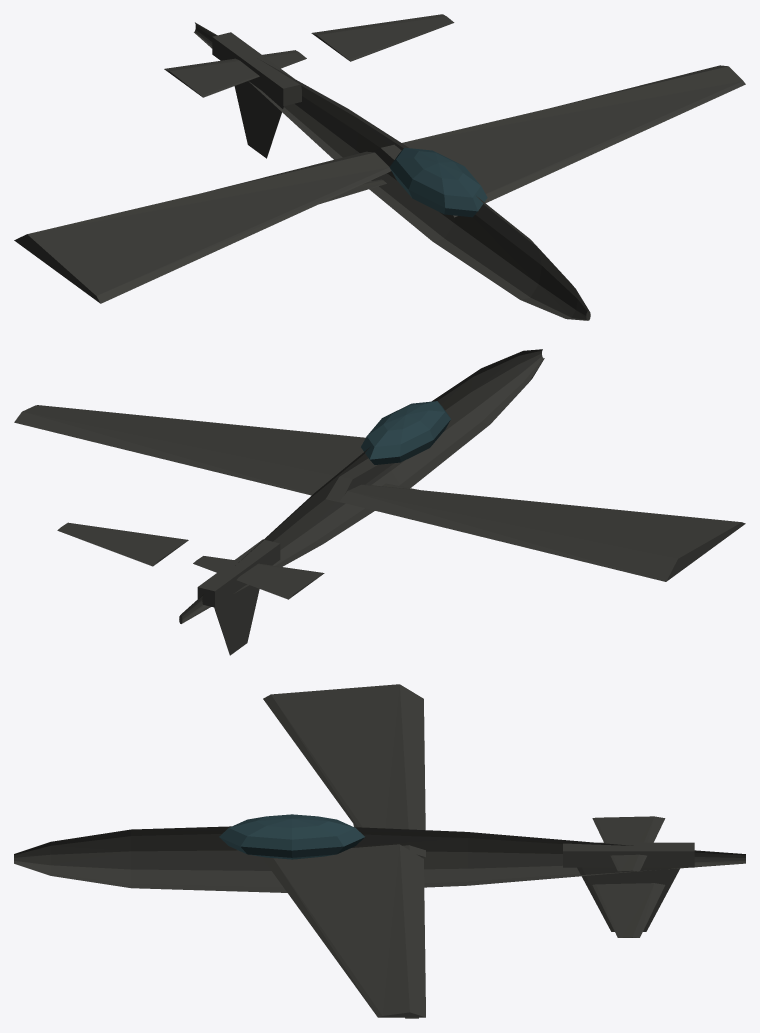
Rendered from a10c_Destroyed.glb.
3 renders of one model, top to bottom at view 1: azimuth 30°, elevation 25°; view 2: azimuth 150°, elevation 25°; view 3: azimuth 270°, elevation 25°, orthographic. The views are drawn at different scales.
Parts seen in each view (by area): view 1: Wing_L, Wing_R, Fuselage, Cockpit, Elevator_R, Elevator_L, TailBoom, Rudder; view 2: Wing_L, Wing_R, Fuselage, Cockpit, Elevator_R, TailBoom, Elevator_L, Rudder; view 3: Fuselage, Wing_R, Wing_L, Cockpit, TailBoom, Elevator_R, Elevator_L, Rudder.
Part boxes in pixels (bbox=[...]): Wing_L: bbox=[14, 151, 391, 303]; Wing_R: bbox=[372, 65, 745, 217]; Fuselage: bbox=[194, 22, 590, 320]; Cockpit: bbox=[389, 147, 487, 217]; Elevator_R: bbox=[311, 14, 454, 61]; Elevator_L: bbox=[164, 50, 306, 97]; TailBoom: bbox=[212, 32, 301, 106]; Rudder: bbox=[234, 81, 283, 158]; Wing_L: bbox=[340, 484, 745, 581]; Wing_R: bbox=[14, 405, 393, 502]; Fuselage: bbox=[179, 349, 544, 623]; Cockpit: bbox=[361, 401, 450, 464]; Elevator_R: bbox=[57, 522, 188, 566]; TailBoom: bbox=[197, 539, 280, 607]; Elevator_L: bbox=[193, 556, 324, 599]; Rudder: bbox=[214, 584, 259, 655]; Fuselage: bbox=[14, 826, 745, 892]; Wing_R: bbox=[263, 844, 425, 1017]; Wing_L: bbox=[263, 684, 425, 857]; Cockpit: bbox=[219, 814, 364, 859]; TailBoom: bbox=[563, 842, 694, 867]; Elevator_R: bbox=[592, 883, 665, 937]; Elevator_L: bbox=[592, 816, 665, 871]; Rudder: bbox=[577, 867, 680, 931].
Size of the model in its own units: 16.83 by 2.77 by 16.26.
